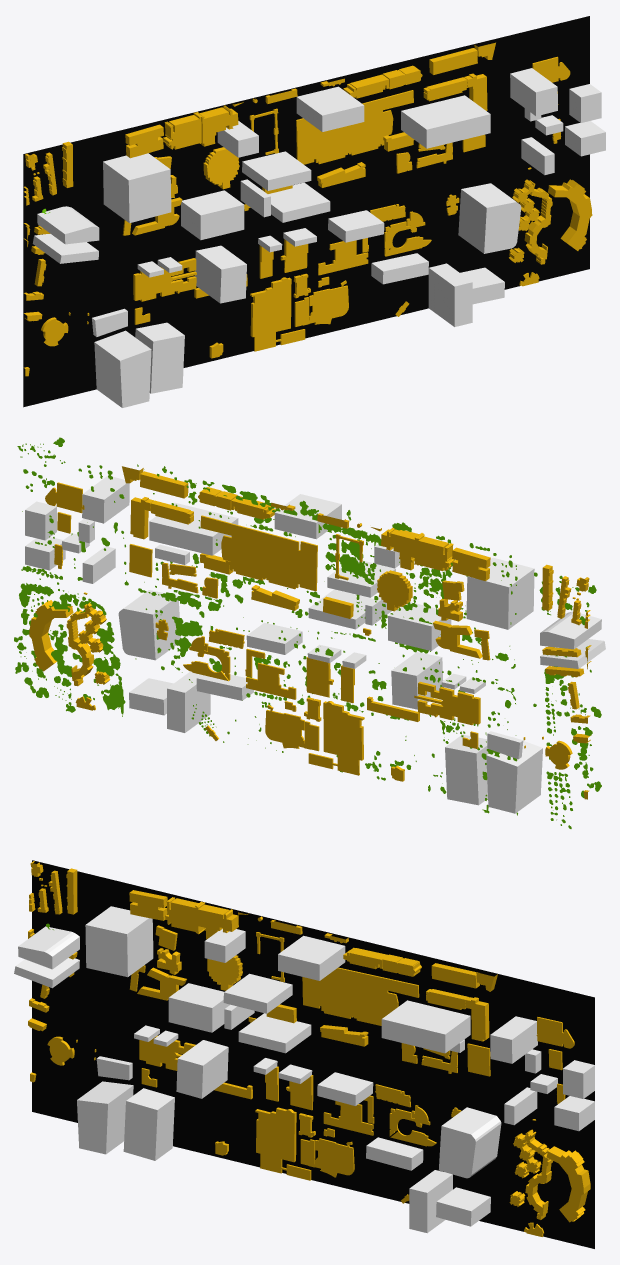
File: new_high_buildings_07.glb
The picture shows the model from 3 angles, top to bottom: view 1: azimuth 30°, elevation 25°; view 2: azimuth 150°, elevation 25°; view 3: azimuth 330°, elevation 25°; orthographic projection.
Visible parts, largest first — view 1: Layer 04, new buildings, existing_building - Copy; view 2: existing_building - Copy, new buildings, treesurface; view 3: Layer 04, new buildings, existing_building - Copy.
Part boxes in pixels (left/top/right/bottom): Layer 04: left=23, top=16, right=589, bottom=407; new buildings: left=32, top=68, right=605, bottom=407; existing_building - Copy: left=24, top=42, right=592, bottom=376; existing_building - Copy: left=29, top=466, right=591, bottom=799; new buildings: left=25, top=476, right=605, bottom=813; treesurface: left=14, top=437, right=601, bottom=828; Layer 04: left=32, top=860, right=594, bottom=1248; new buildings: left=14, top=906, right=594, bottom=1233; existing_building - Copy: left=28, top=861, right=590, bottom=1236.
Size of the model in its own units: 1035 by 458 by 84.18.
